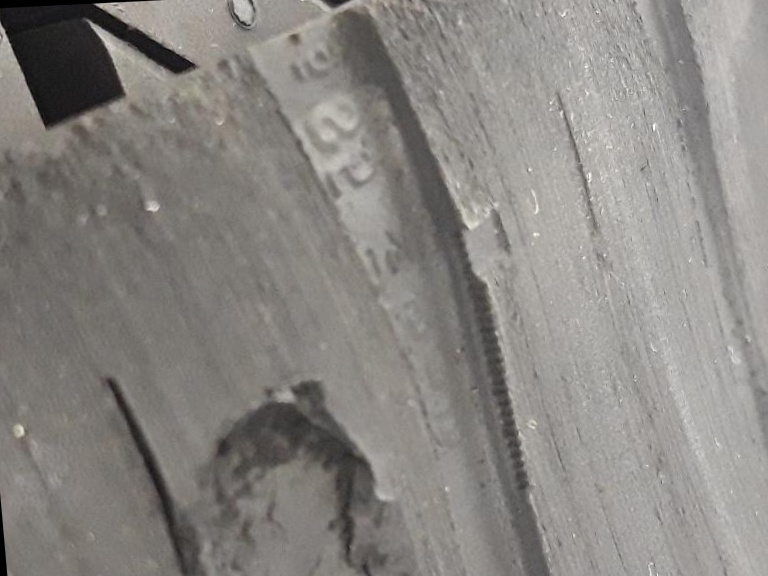temoin:0: (440, 194, 533, 307)
